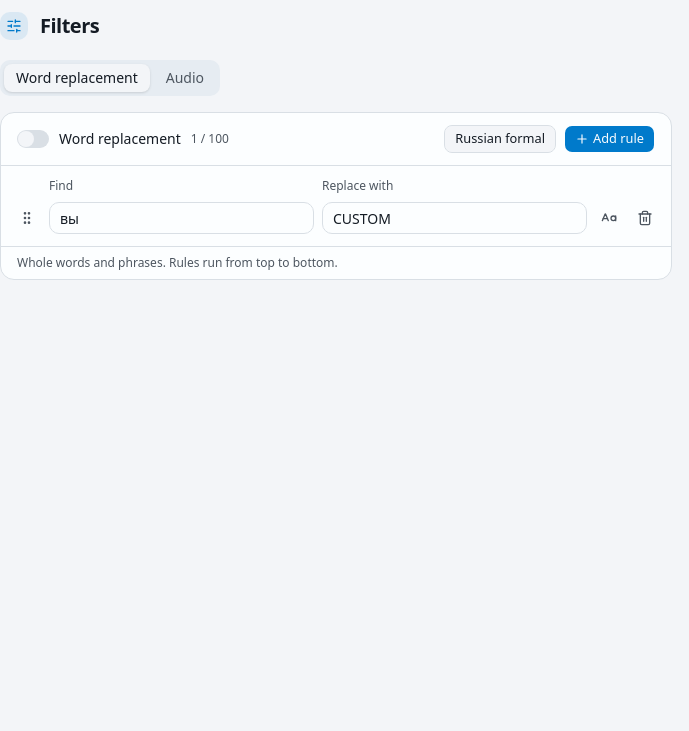
Test case: compact replacement editor › adds only missing preset rules and keeps custom replacements
What coordinates should you click on to do the following:
click the button "Russian formal"
I would click on:
 (500, 139)
Its box is [444, 125, 556, 153].
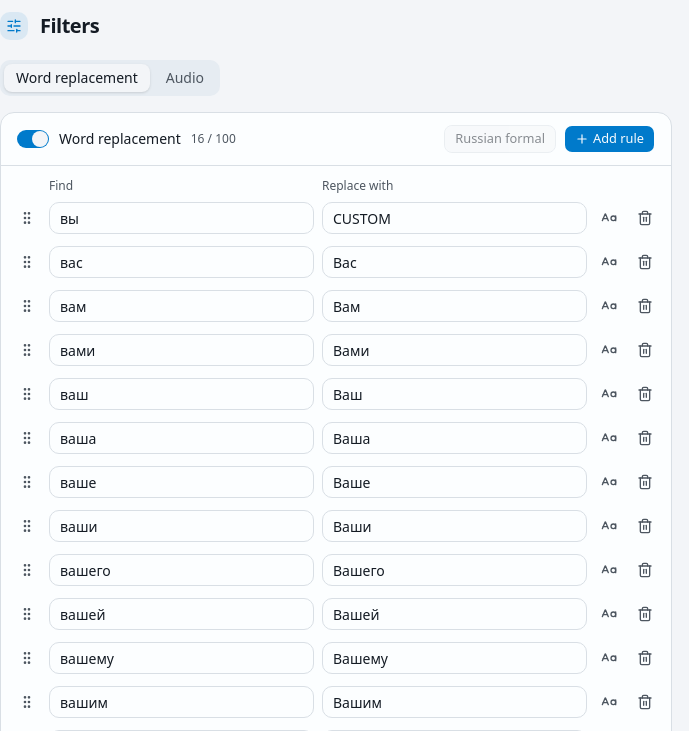
Expected: the field named "Replace with 1" holds "CUSTOM", [322, 202, 587, 234]
Result: the number of list items is 16
Result: the button "Russian formal" is disabled at [444, 125, 556, 153]
